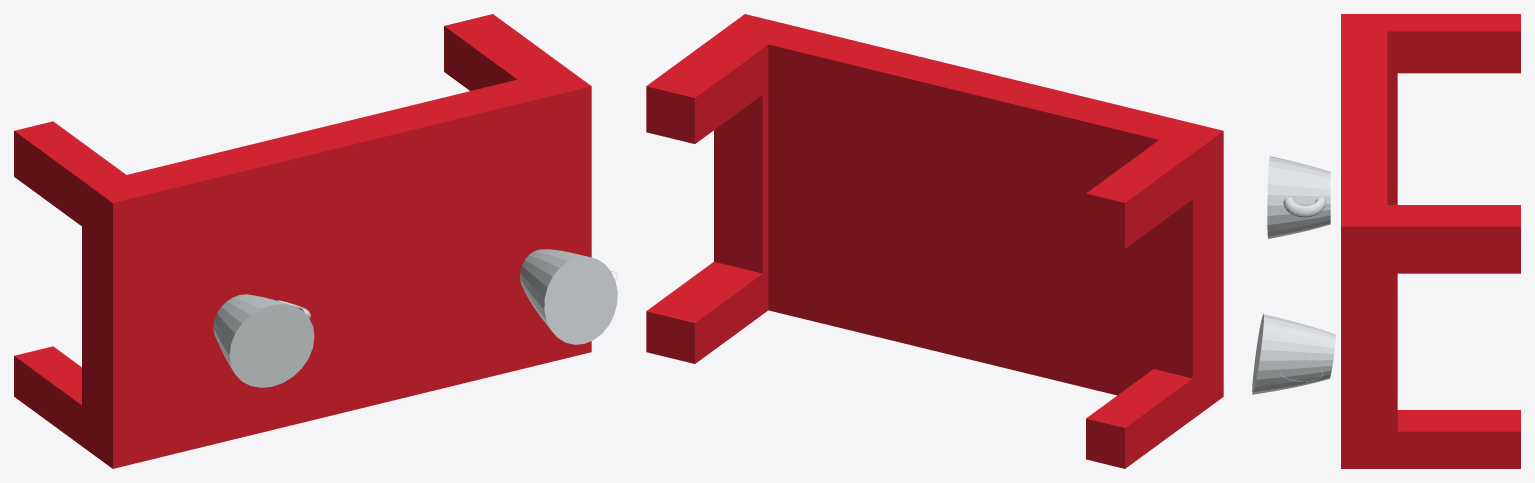
The model's file is tinker.obj.
3 renders of one model, left to right at view 1: azimuth 30°, elevation 25°; view 2: azimuth 150°, elevation 25°; view 3: azimuth 270°, elevation 25°, orthographic. The views are drawn at different scales.
Visible parts, largest first — view 1: group_0_15277357, group_0_14541540; view 2: group_0_15277357; view 3: group_0_15277357, group_0_14541540.
Part boxes in pixels (bbox=[...]): group_0_15277357: bbox=[14, 14, 591, 468]; group_0_14541540: bbox=[213, 249, 617, 387]; group_0_15277357: bbox=[646, 14, 1223, 468]; group_0_15277357: bbox=[1341, 14, 1520, 468]; group_0_14541540: bbox=[1252, 156, 1335, 394].
Size of the model in its own units: 98.1 by 52 by 52.3.
